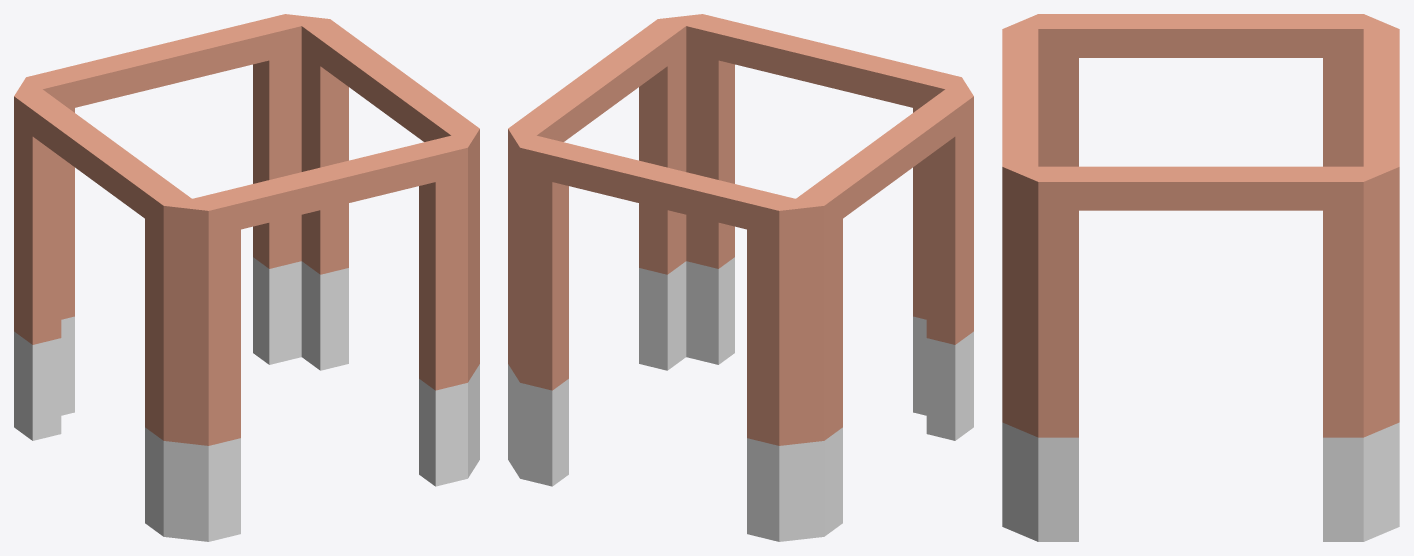
Rendered from metalStructureBottom.glb.
3 views of the same model, side by side, from view 1: azimuth 30°, elevation 25°; view 2: azimuth 150°, elevation 25°; view 3: azimuth 270°, elevation 25° (orthographic). The views are drawn at different scales.
Visible parts, largest first — view 1: metalStructureBottom; view 2: metalStructureBottom; view 3: metalStructureBottom.
Part boxes in pixels (left/top/right/bottom): metalStructureBottom: left=14, top=14, right=479, bottom=541; metalStructureBottom: left=508, top=14, right=973, bottom=541; metalStructureBottom: left=1002, top=14, right=1399, bottom=541.
Bounding box in the file's own units: 10 × 10 × 10.
